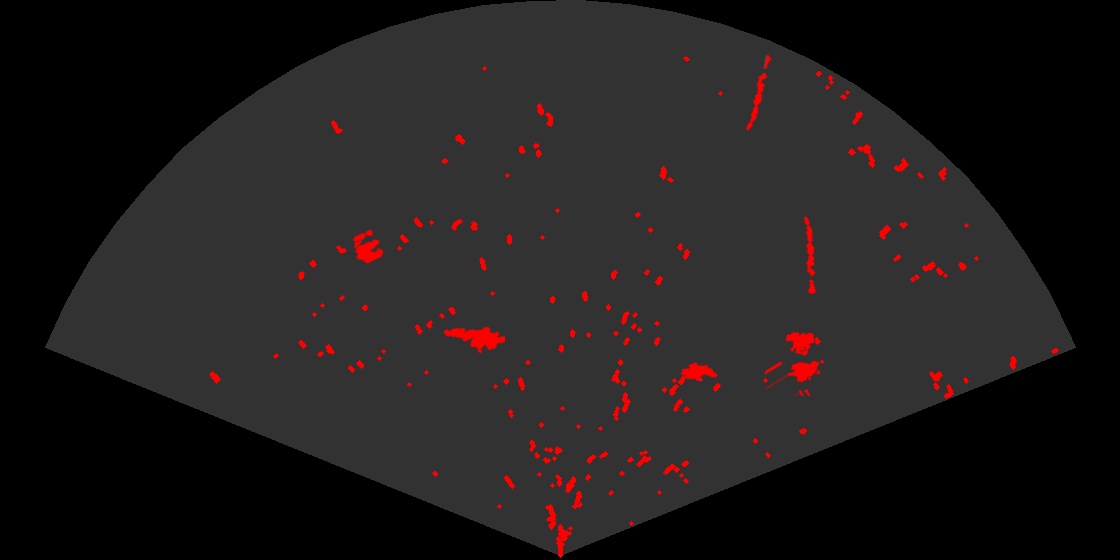AUV: (679, 360, 720, 383)
ball: (351, 228, 385, 265)
cage: (765, 330, 826, 396)
chain: (745, 52, 773, 133), (803, 214, 818, 294)
frogman: (441, 325, 505, 355)
